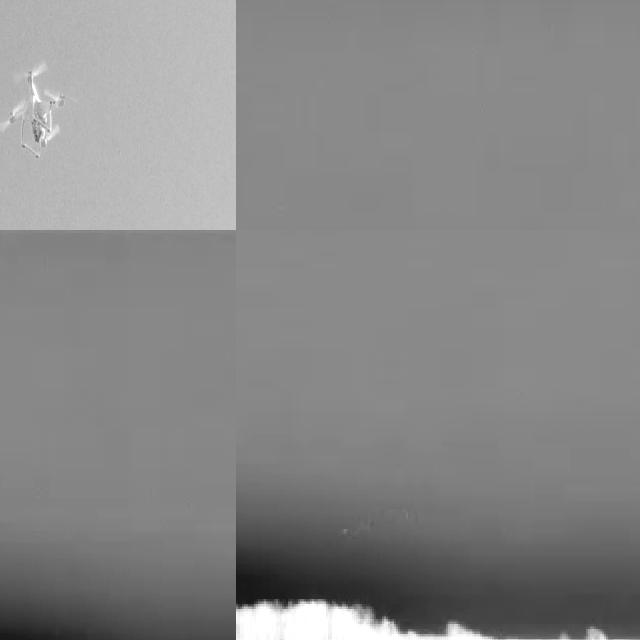0: (332, 519, 362, 549)
drone: (0, 63, 69, 160)
